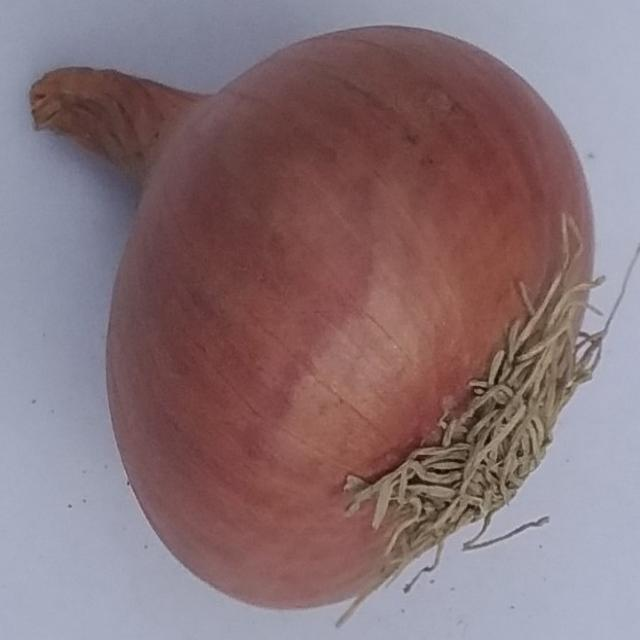onion: (25, 25, 640, 626)
